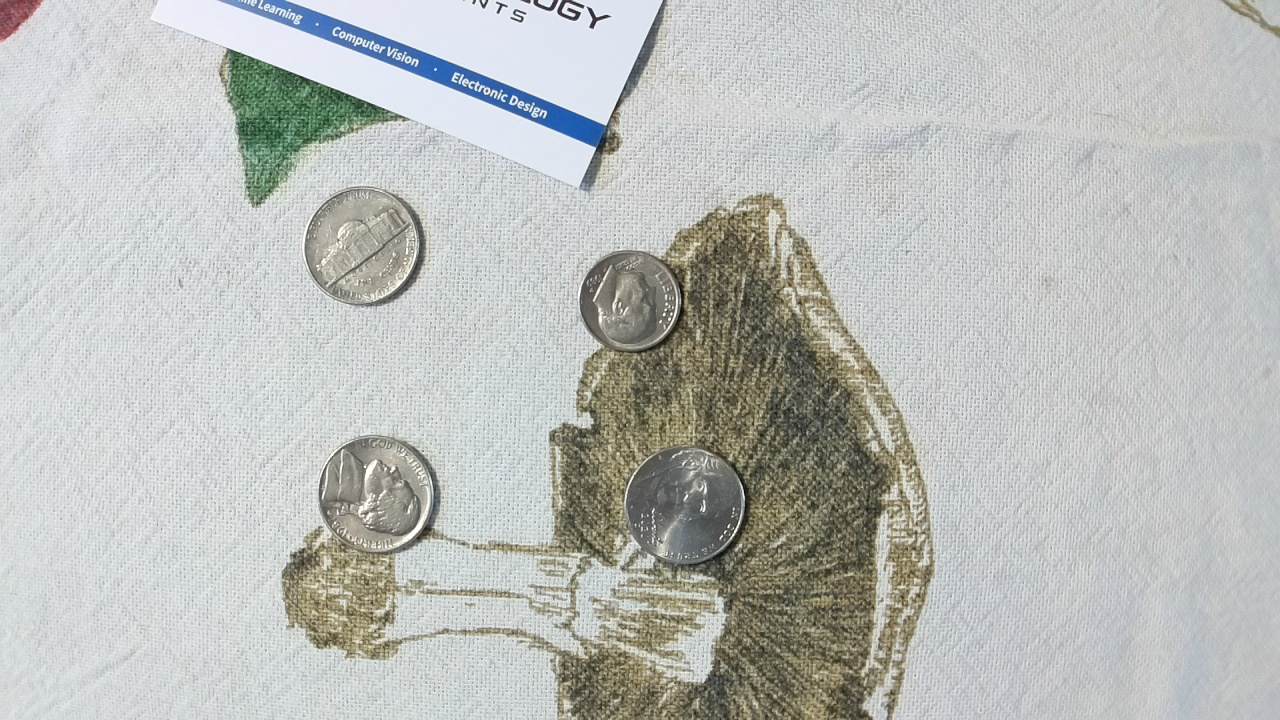dime: (576, 248, 686, 354)
nickel: (292, 180, 434, 312), (618, 443, 750, 567), (310, 432, 442, 552)
